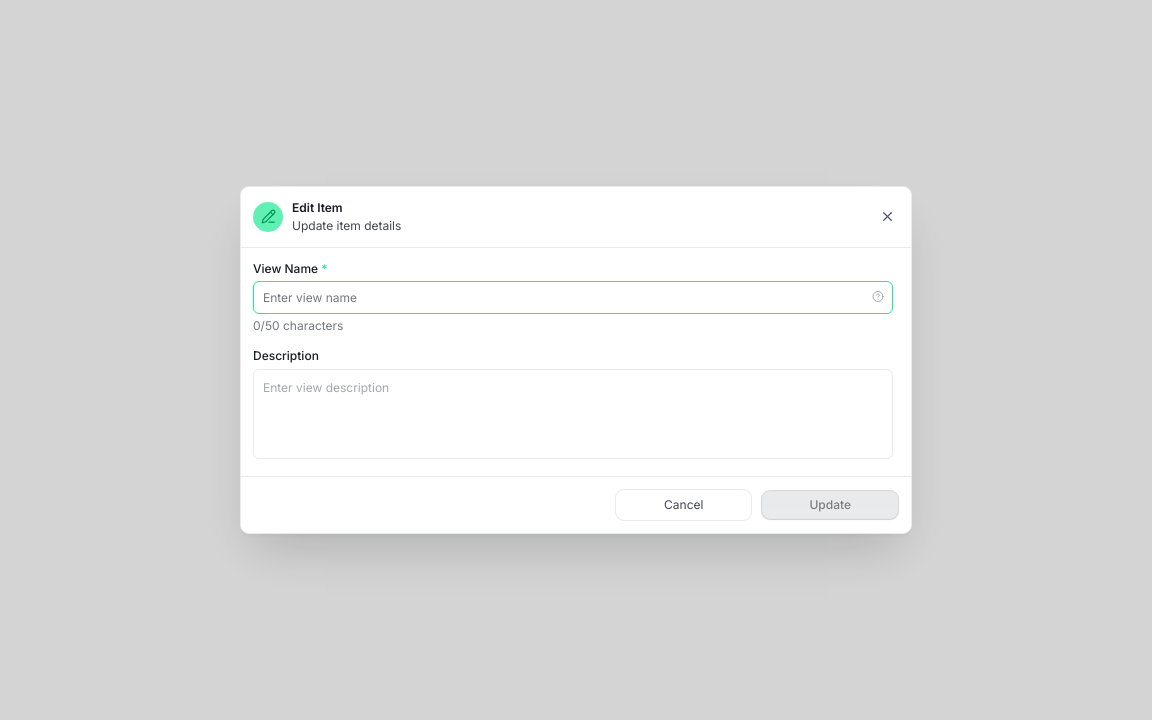
Test: EditItemModal › form validation for view › shows validation error for duplicate view name
Type "Existing View" into the field labelled "View Name *". click: (573, 297)
box: [253,281,892,314]
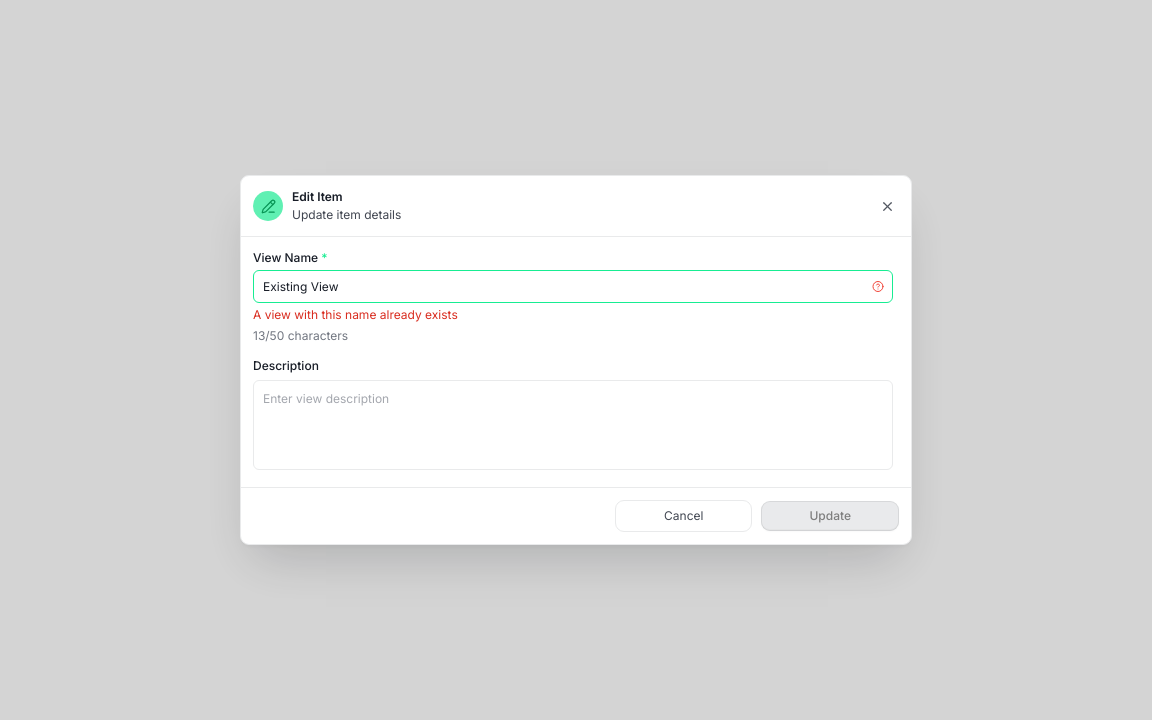
Expected: the text "A view with this name already exists" is shown, [253,307,458,322]
